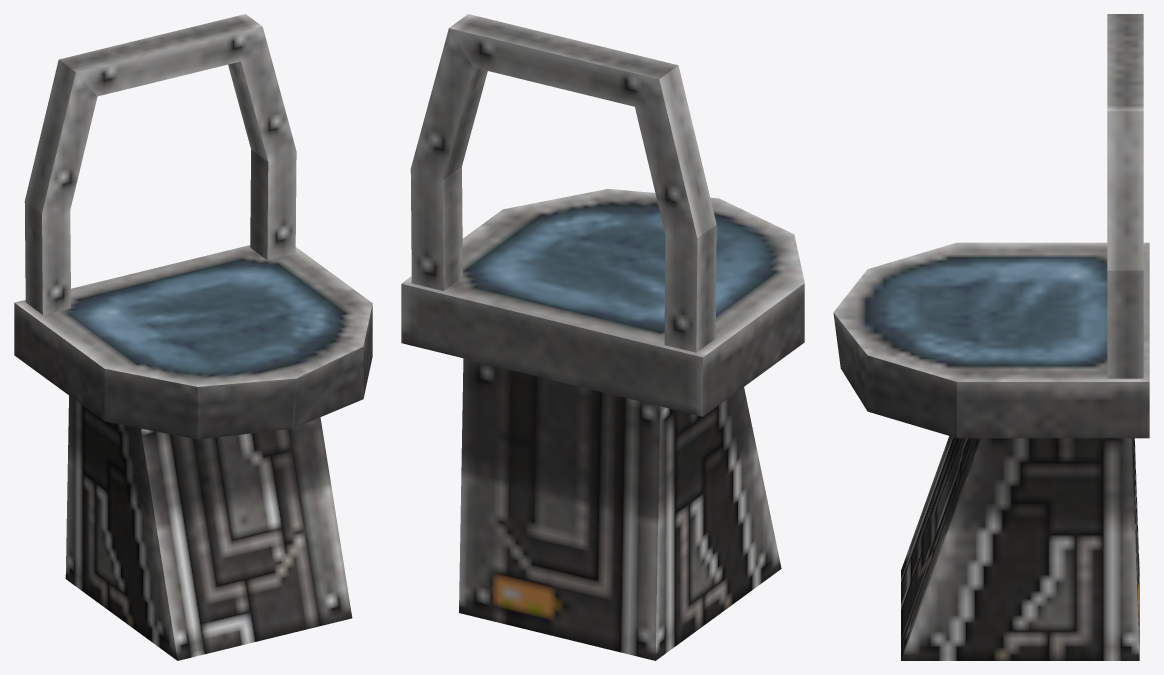
Rendered from lab-chair.glb.
3 views of the same model, side by side, from view 1: azimuth 30°, elevation 25°; view 2: azimuth 150°, elevation 25°; view 3: azimuth 270°, elevation 25° (orthographic). The views are drawn at different scales.
Parts seen in each view (by area): view 1: chair_h_01; view 2: chair_h_01; view 3: chair_h_01.
Boxes of the visible parts, x1,y1,x2,y2 form: chair_h_01: (14,14,372,660); chair_h_01: (401,14,804,660); chair_h_01: (833,14,1149,660).
Size of the model in its own units: 0.0149 by 0.0276 by 0.0143.
Materials: 1 (1 with a texture image).
